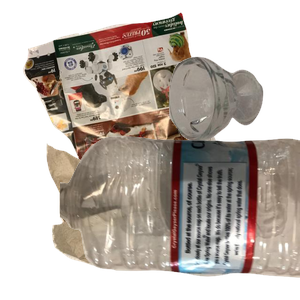glass: (166, 54, 300, 189)
paper: (20, 10, 231, 190)
plastic: (60, 134, 300, 300)
trash: (44, 136, 277, 300)
